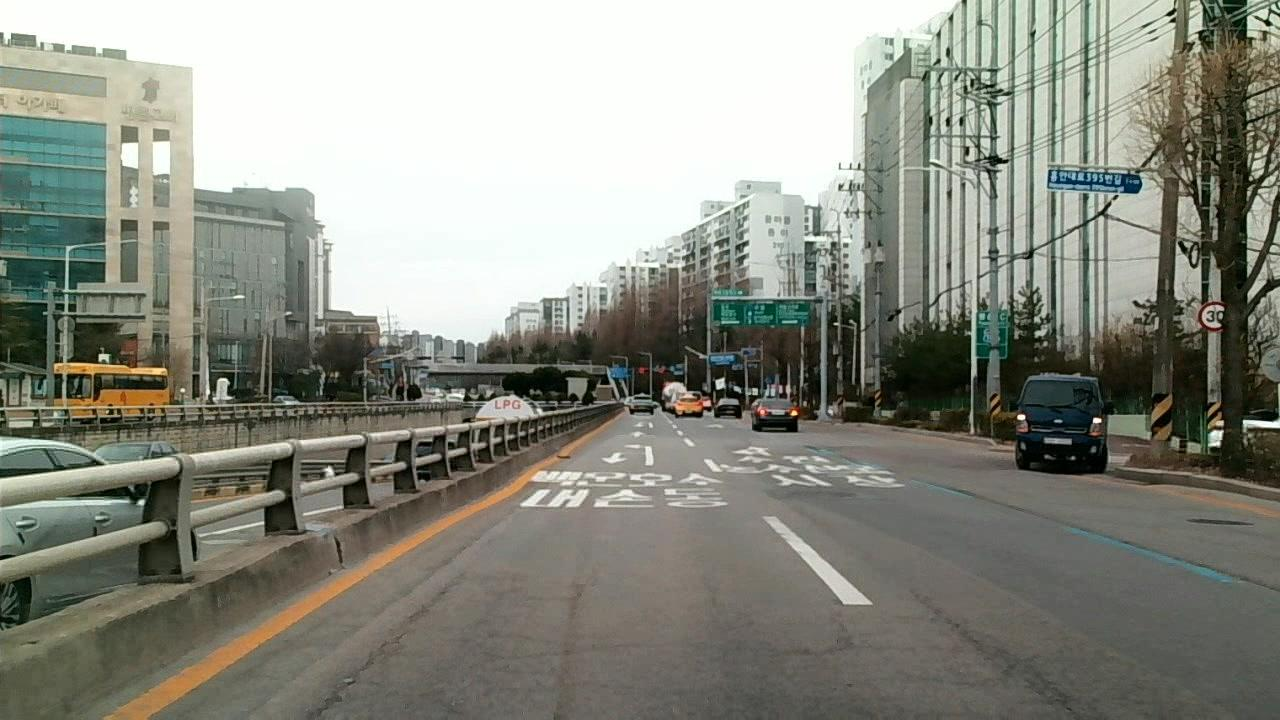vcrack: (297, 582, 455, 720), (906, 595, 1074, 720), (1025, 508, 1152, 550), (1165, 551, 1263, 591), (917, 475, 1009, 508), (814, 609, 859, 662)
